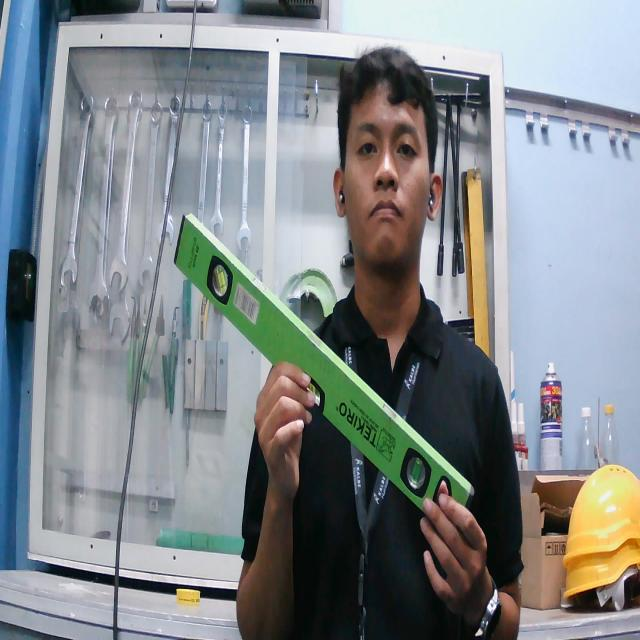water_pass: (172, 205, 475, 546)
